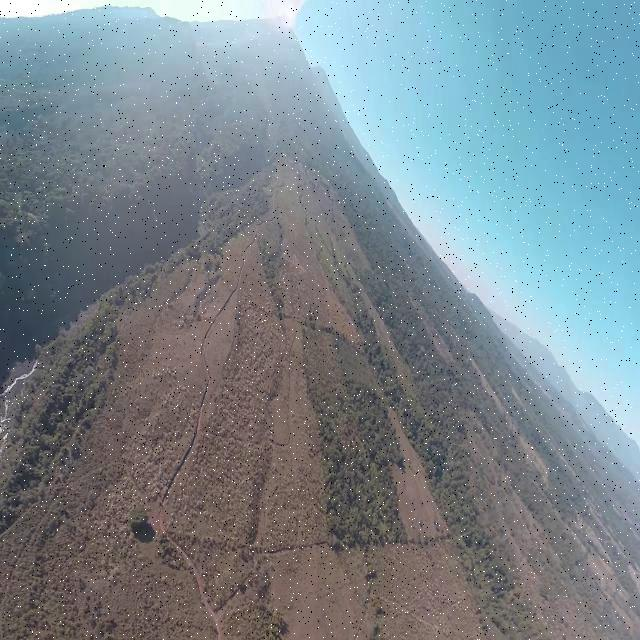Plume: (266, 6, 306, 26)
Summit: (260, 10, 294, 37)
